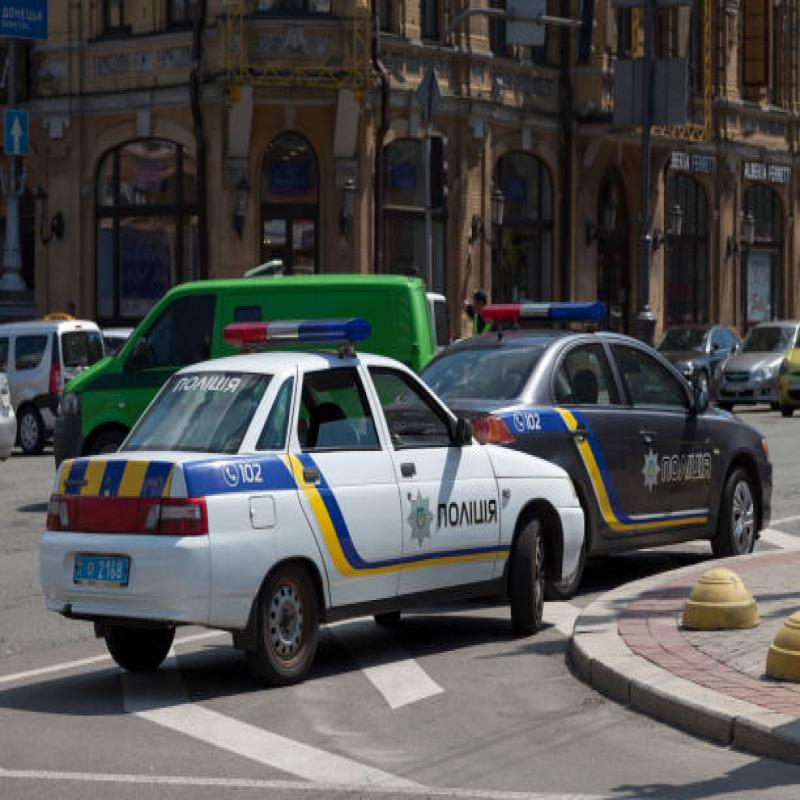AmbulanceSiren: (461, 280, 615, 357), (218, 289, 361, 356)
